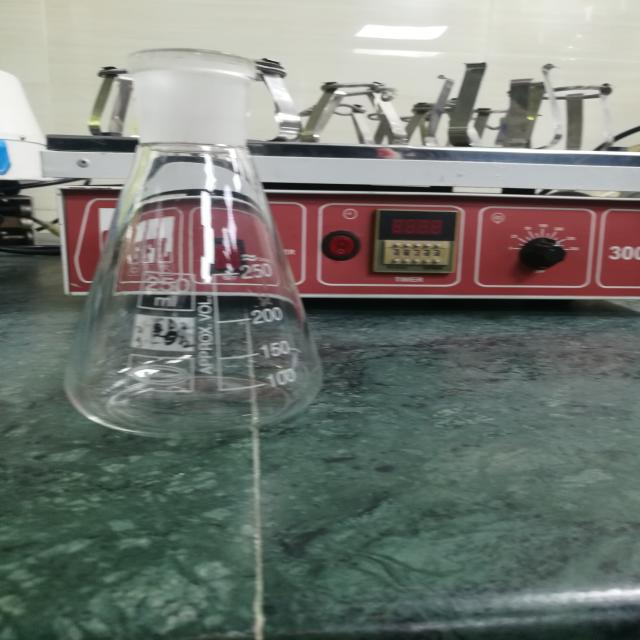Conical_Flask: (26, 25, 377, 472)
